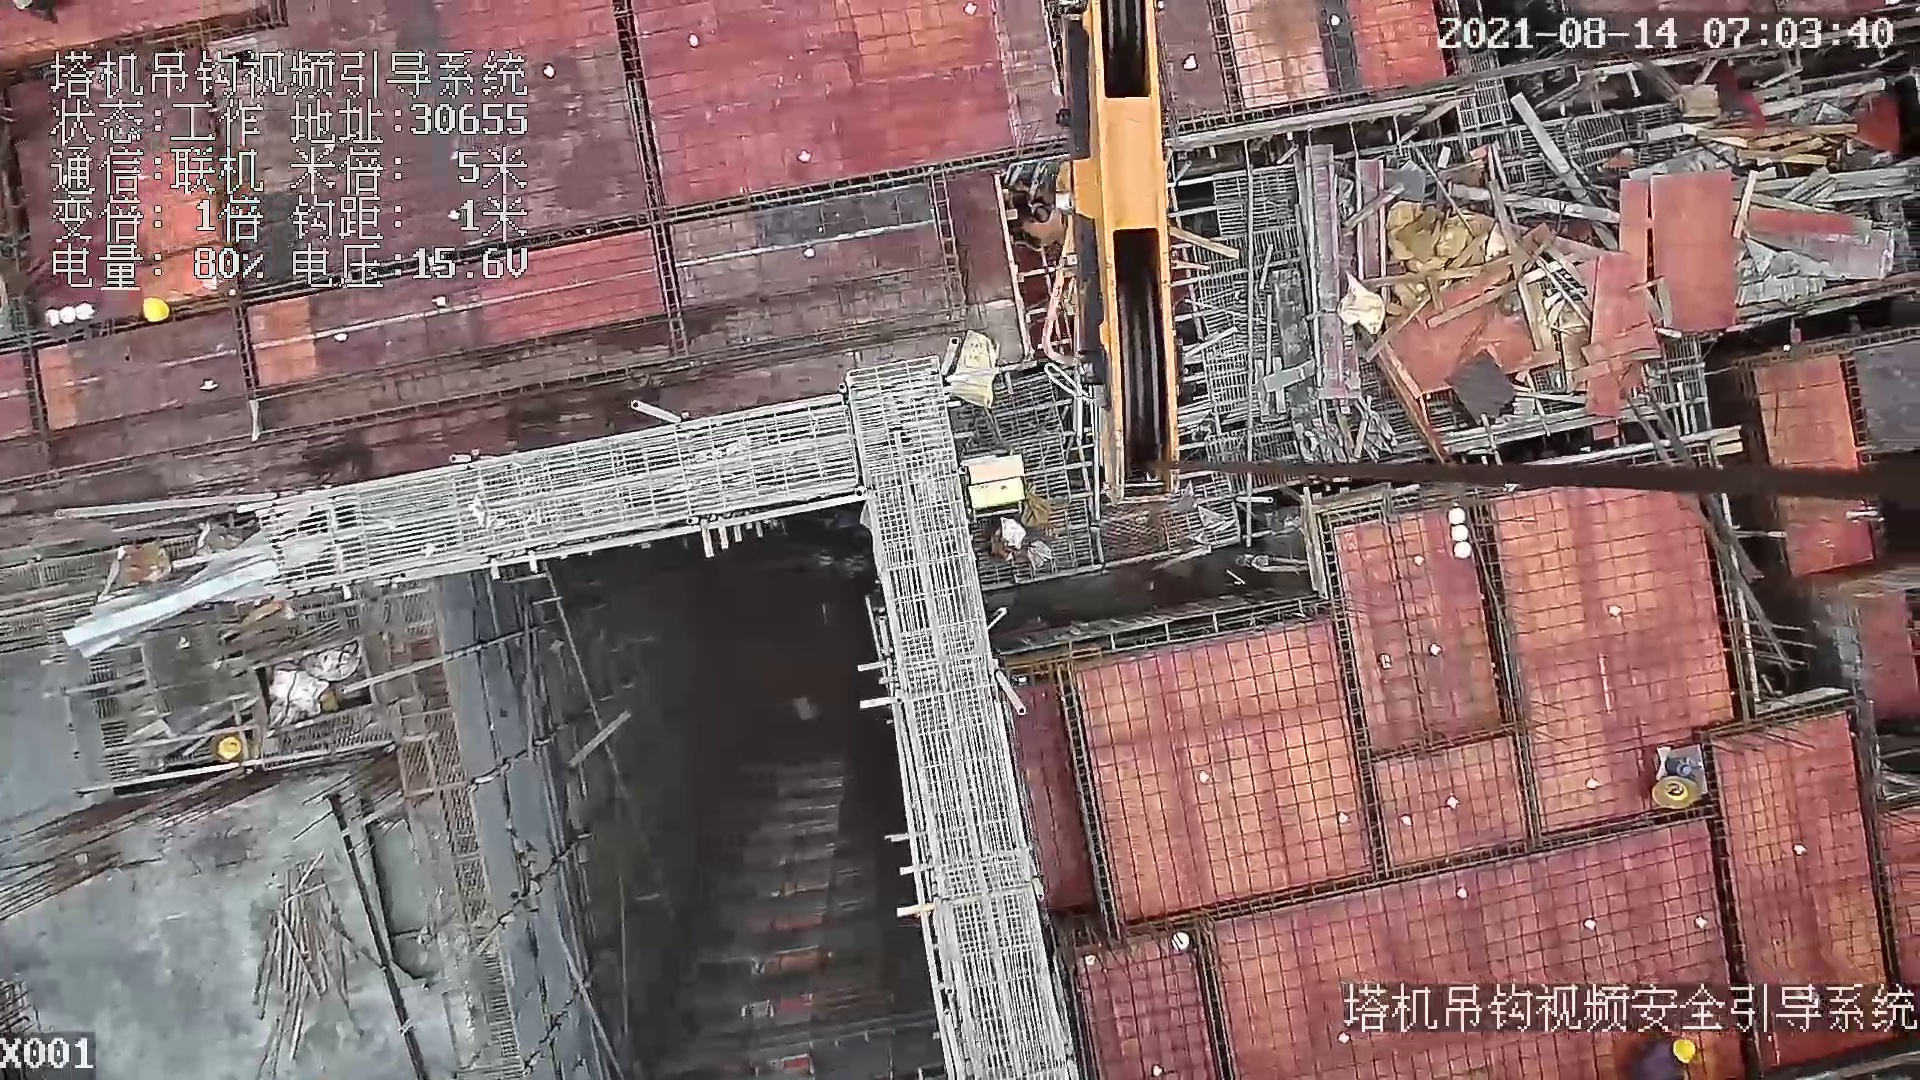helmet: (138, 294, 175, 326), (1670, 1037, 1697, 1064)
hook: (999, 1, 1201, 510)
person: (1622, 1033, 1702, 1080)
